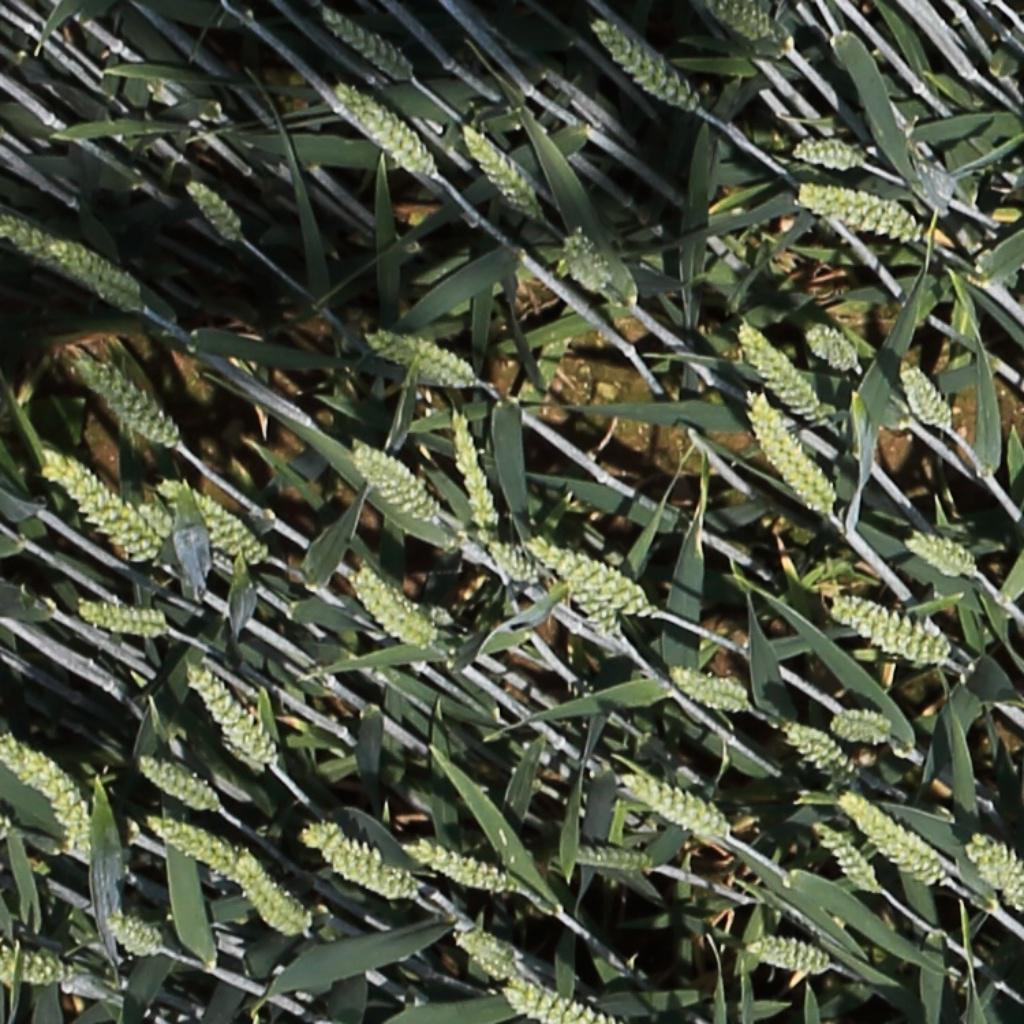0-0: (36, 444, 158, 562), (744, 389, 835, 521), (589, 19, 708, 119), (525, 539, 656, 628), (2, 730, 90, 854), (331, 80, 437, 179), (838, 794, 946, 887), (181, 663, 274, 770), (734, 322, 828, 425), (73, 357, 179, 448), (159, 479, 266, 565), (456, 117, 544, 221), (831, 596, 951, 671), (302, 819, 410, 898), (795, 182, 923, 247), (228, 854, 316, 947), (348, 569, 441, 653), (348, 445, 445, 525), (50, 239, 150, 315), (622, 775, 731, 843), (446, 409, 501, 539), (364, 329, 480, 389), (318, 5, 409, 80), (143, 820, 241, 882), (808, 820, 882, 901), (411, 840, 517, 895), (133, 756, 217, 815), (965, 831, 1024, 913), (782, 724, 860, 786), (2, 215, 72, 283), (502, 985, 621, 1024), (667, 667, 750, 722), (180, 173, 243, 244), (897, 357, 955, 434), (72, 597, 168, 642), (742, 933, 829, 979), (709, 0, 787, 50), (558, 225, 608, 293), (903, 533, 977, 576), (453, 931, 514, 981), (101, 914, 164, 962), (802, 322, 858, 371), (787, 136, 863, 172), (566, 843, 657, 872), (484, 540, 542, 585), (1, 950, 76, 983), (574, 589, 622, 636), (827, 710, 895, 743), (133, 499, 174, 541)
